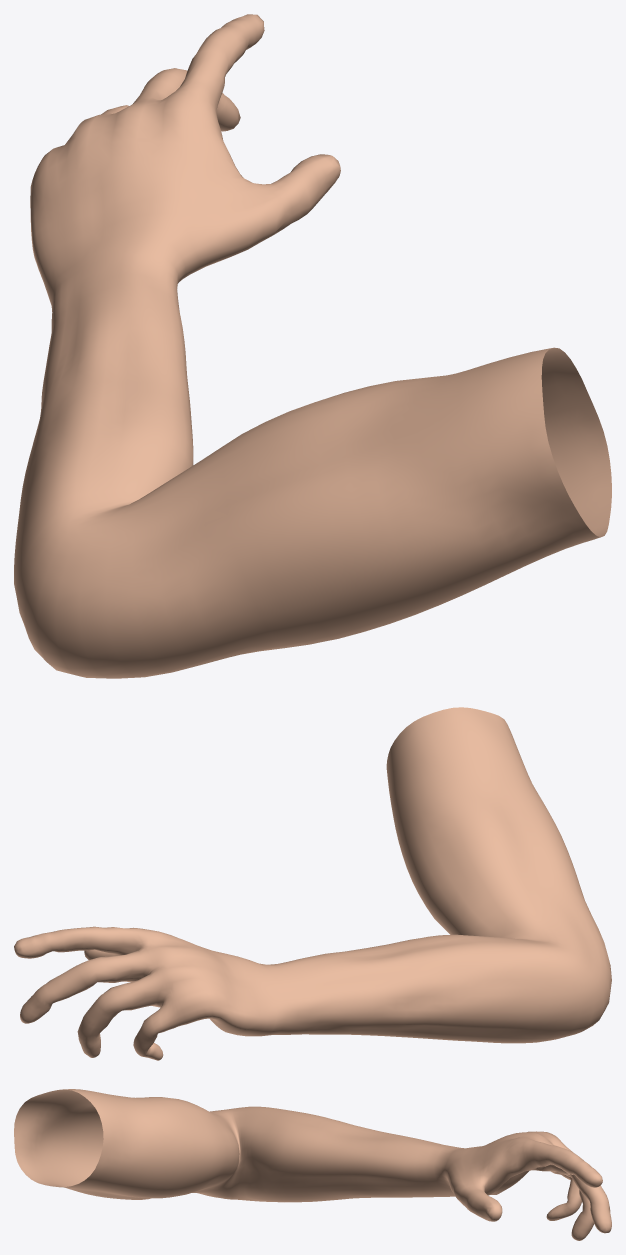
File: left.obj
The picture shows the model from 3 angles, top to bottom: view 1: azimuth 30°, elevation 25°; view 2: azimuth 150°, elevation 25°; view 3: azimuth 270°, elevation 25°; orthographic projection. The views are drawn at different scales.
Parts seen in each view (by area): view 1: left; view 2: left; view 3: left.
Part boxes in pixels (box(x1,y1,x2,y2)): left: box(14, 14, 611, 678); left: box(14, 707, 611, 1060); left: box(14, 1089, 611, 1240).
Size of the model in its own units: 41.48 by 23.32 by 69.19.
Materials: 1 (1 with a texture image).
